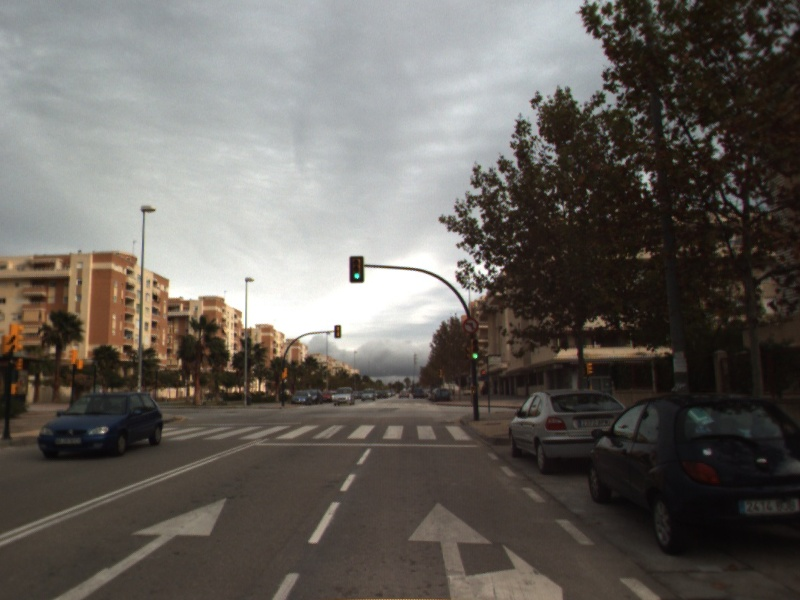STRAIGHT: (50, 494, 229, 600)
STRAIGHT_RIGHT: (404, 497, 566, 600)
